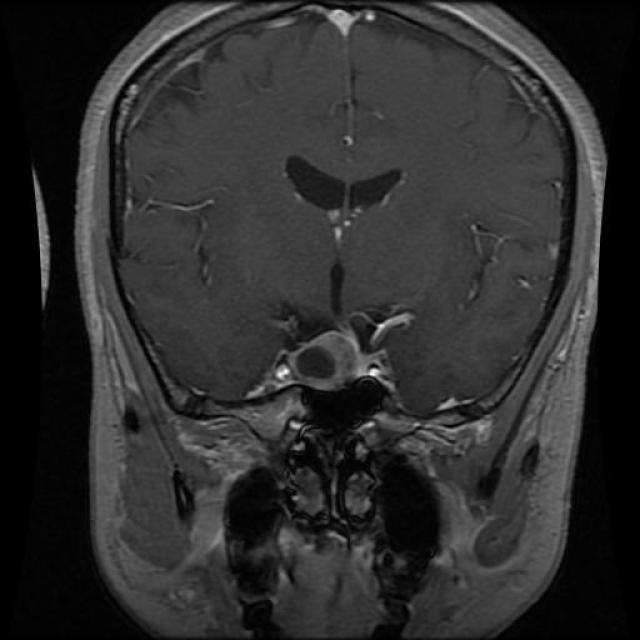pituitary: (256, 320, 401, 408)
